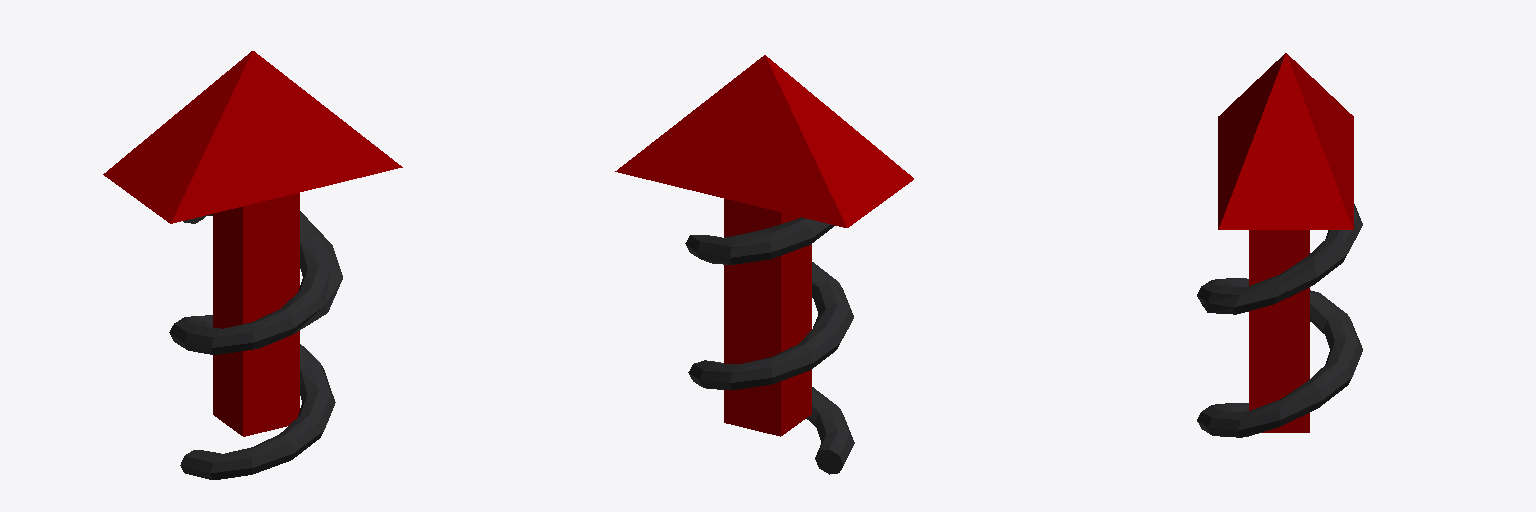
File: Jump.obj
3 views of the same model, side by side, from view 1: azimuth 30°, elevation 25°; view 2: azimuth 150°, elevation 25°; view 3: azimuth 270°, elevation 25° (orthographic).
Parts seen in each view (by area): view 1: Cone.001_Cone.003, Torus; view 2: Cone.001_Cone.003, Torus; view 3: Cone.001_Cone.003, Torus.
Boxes of the visible parts, box(x1,y1,x2,y2) form: Cone.001_Cone.003: box(103, 51, 402, 436); Torus: box(169, 211, 342, 479); Cone.001_Cone.003: box(615, 55, 913, 436); Torus: box(685, 217, 854, 474); Cone.001_Cone.003: box(1218, 53, 1353, 432); Torus: box(1197, 204, 1362, 437).
Size of the model in its own units: 1.61 by 2.7 by 1.